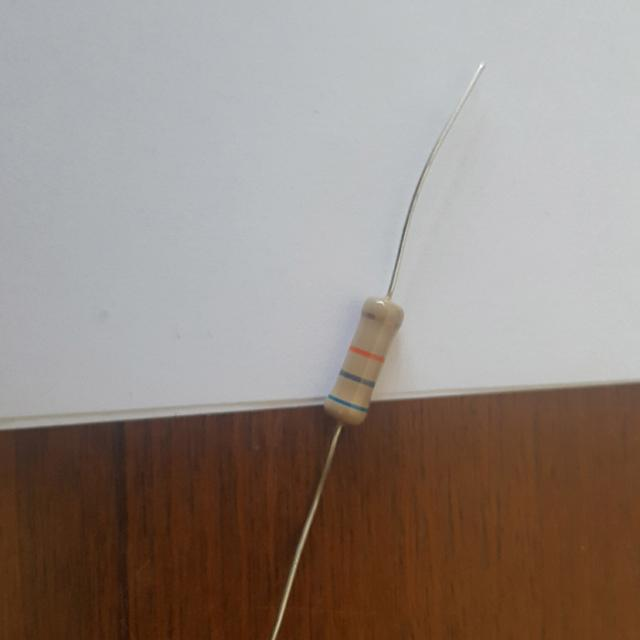blue: (326, 394, 366, 411)
gold: (361, 311, 395, 325)
grey: (339, 368, 375, 386)
orange: (349, 346, 384, 360)
resistor: (308, 287, 427, 441)
